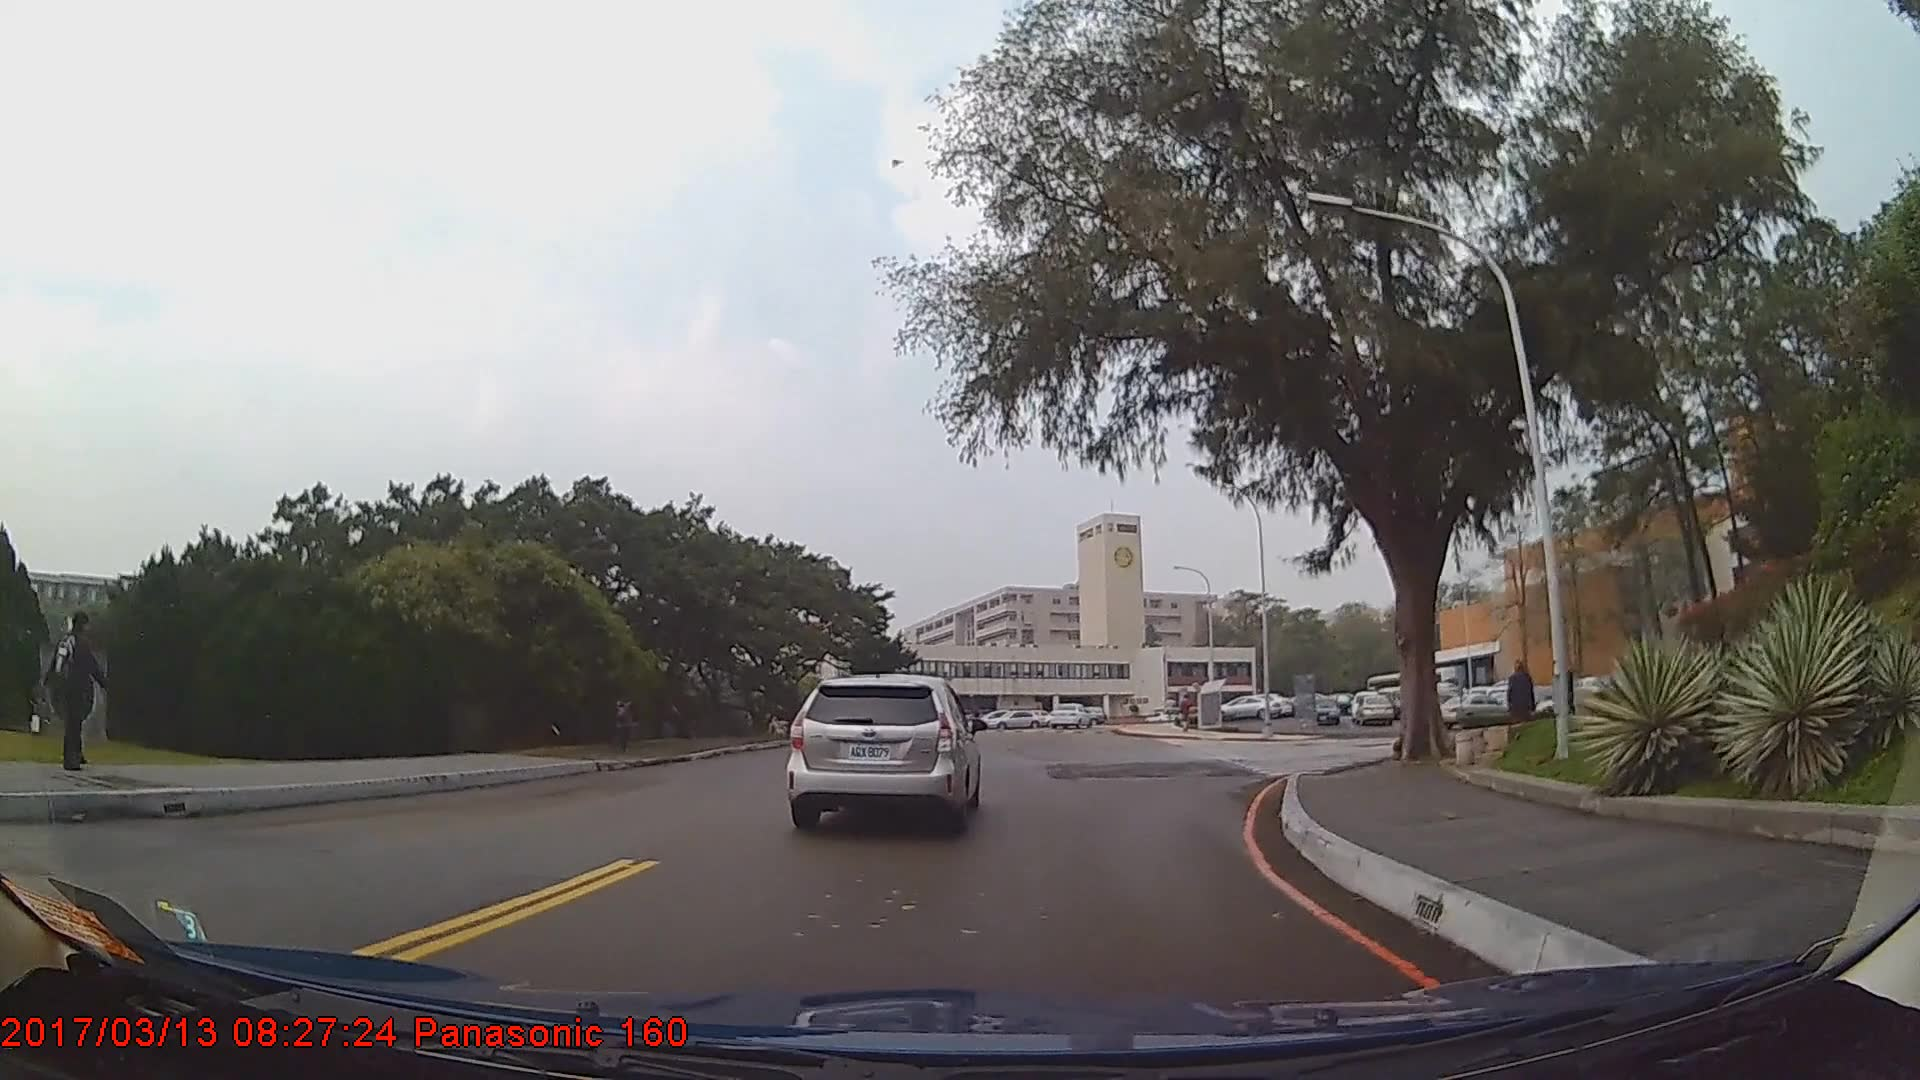pedestrian: (47, 607, 119, 773), (1505, 658, 1543, 763)
vehicle: (786, 668, 978, 830), (1438, 694, 1512, 726), (1217, 693, 1280, 721), (983, 704, 1045, 729), (1354, 692, 1395, 727), (1044, 703, 1092, 730), (1309, 694, 1339, 722)
